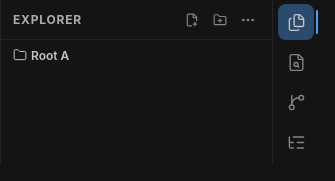
Test: RightSidebar Explorer Rename File › requires the source file and diff tabs to be closed
Click the button named "More Explorer actions" at (248, 20), box [236,8,260,32]
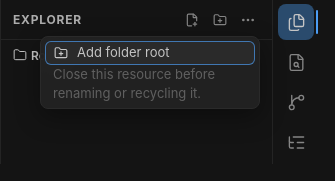
Expected: the menu item "Close this resource before renaming or recycling it." is shown, [53,66,215,101]
